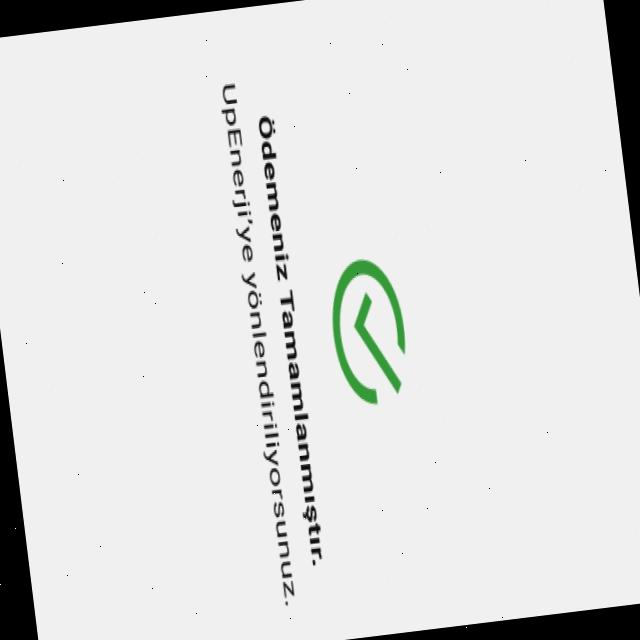QLabel: (214, 74, 300, 611), (250, 102, 328, 569)
VImg: (315, 231, 416, 419)
